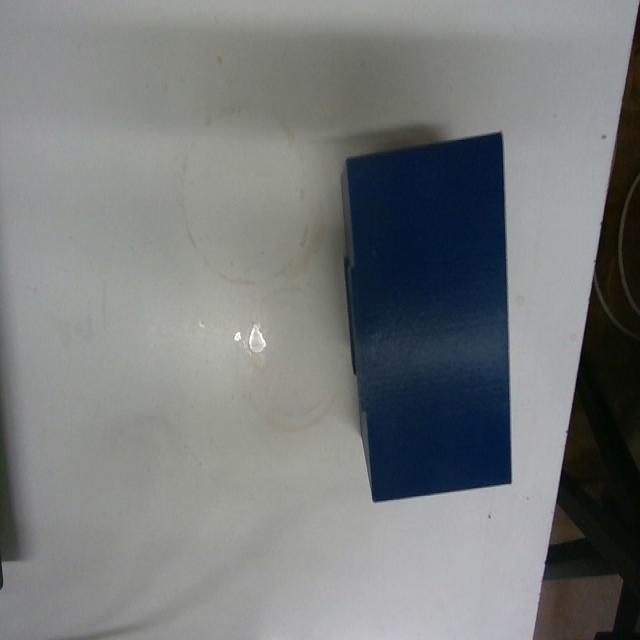Blue Cuboid: (338, 128, 513, 504)
